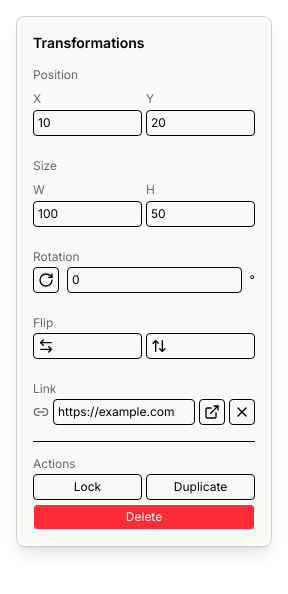
Test: TransformationPanel link editor › opens the committed link, never an unsafe draft typed over it
The width and height of the screenshot is (288, 594).
Replace the text in the field with "javascript:alert(1)" at point(124, 412), box [53,399,195,425]
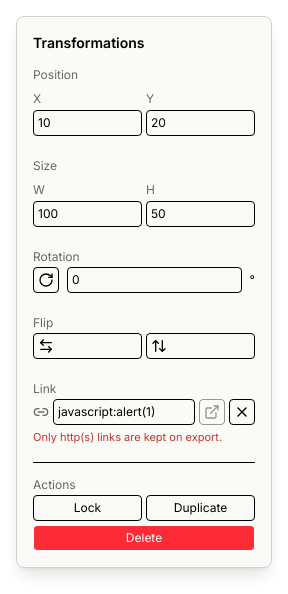
Check: the button named "Open link" is disabled, box [199,399,225,425]
